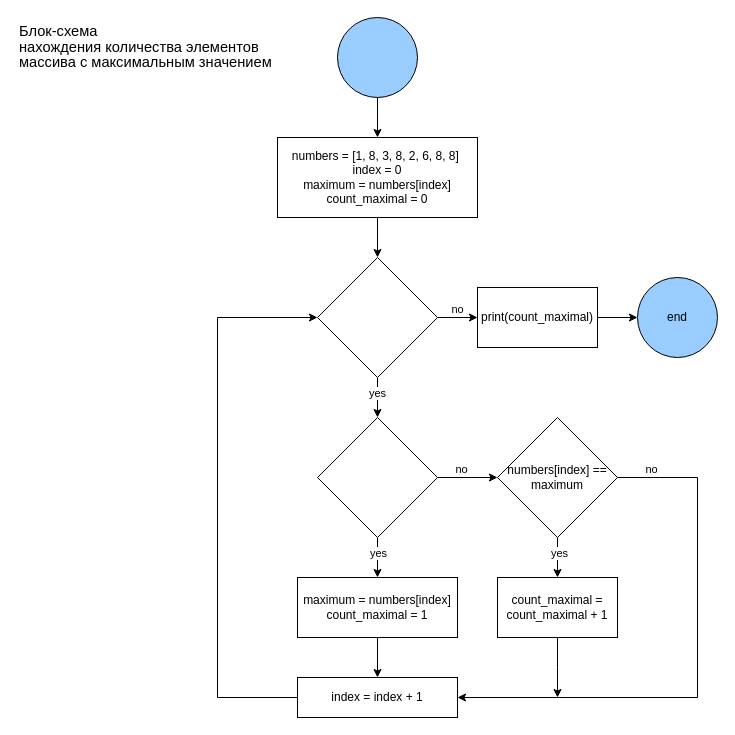
Some shapes in this 735 by 735 pixel diagram are drawn without their labels. The centre of each missing label's shape, as x and y in pixels:
"index < numbers.lenght" goes at (x=377, y=317).
"numbers[index] > maximum" goes at (x=377, y=477).
"start" goes at (x=377, y=57).
